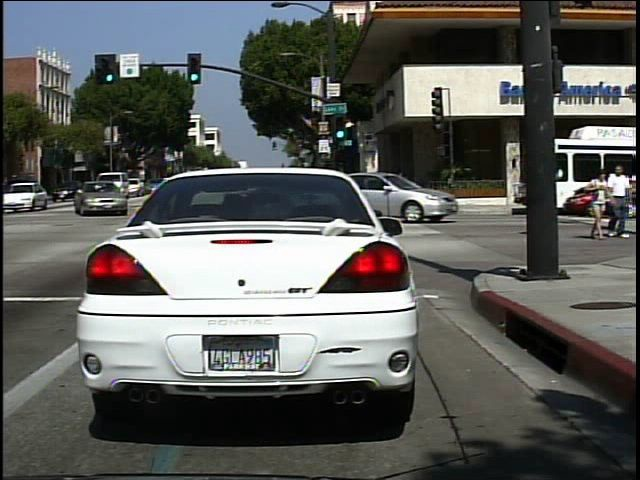person: (605, 163, 632, 243), (586, 164, 612, 242), (529, 166, 551, 238)
